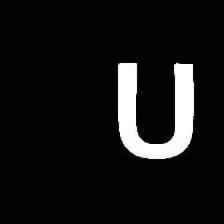LTR_U: (105, 50, 198, 162)
